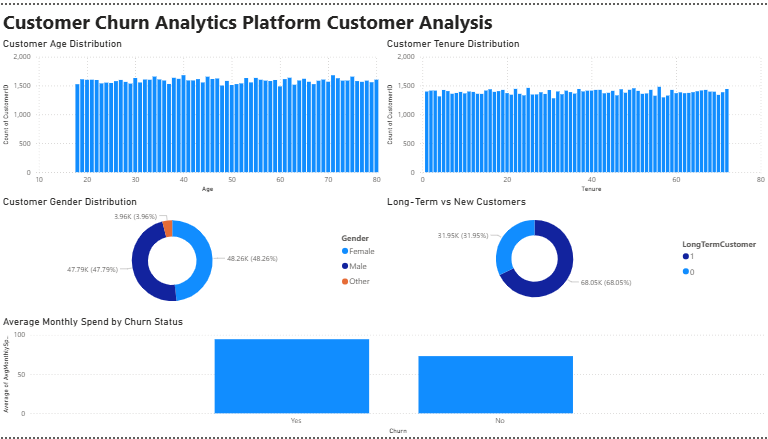

This screenshot's page, from the dashboard's own definition file:
{"tool":"powerbi","page":{"name":"Customer Analysis","canvas":[1280,720],"ordinal":1},"visuals":[{"type":"textbox","box":[0,0,1280,52.9],"z":0},{"type":"clusteredColumnChart","title":"Customer Age Distribution","fields":{"Category":["churn_final.Age"],"Y":["CountNonNull(churn_final.CustomerID)"]},"box":[0,52.9,640,264.3],"z":1},{"type":"clusteredColumnChart","title":"Customer Tenure Distribution","fields":{"Category":["churn_final.Tenure"],"Y":["CountNonNull(churn_final.CustomerID)"]},"box":[640,52.9,640,264.3],"z":2},{"type":"donutChart","title":"Customer Gender Distribution","fields":{"Category":["churn_final.Gender"],"Y":["CountNonNull(churn_final.CustomerID)"]},"box":[0,317.1,640,200],"z":3},{"type":"donutChart","title":"Long-Term vs New Customers","fields":{"Category":["churn_final.LongTermCustomer"],"Y":["CountNonNull(churn_final.CustomerID)"]},"box":[640,317.1,640,192.9],"z":4},{"type":"clusteredColumnChart","title":"Average Monthly Spend by Churn Status","fields":{"Category":["churn_final.Churn"],"Y":["Avg(churn_final.AvgMonthlySpend)"]},"box":[0,517.1,1280,202.9],"z":5}]}

Visuals, with their boxes in screenshot pixels (x1, y1, x2, y2), scaled from the page's 1280x720 canvas onto the 768x439 screenshot:
textbox: <region>0, 0, 767, 32</region>
"Customer Age Distribution" clusteredColumnChart: <region>0, 32, 384, 193</region>
"Customer Tenure Distribution" clusteredColumnChart: <region>384, 32, 767, 193</region>
"Customer Gender Distribution" donutChart: <region>0, 193, 384, 315</region>
"Long-Term vs New Customers" donutChart: <region>384, 193, 767, 311</region>
"Average Monthly Spend by Churn Status" clusteredColumnChart: <region>0, 315, 767, 438</region>
